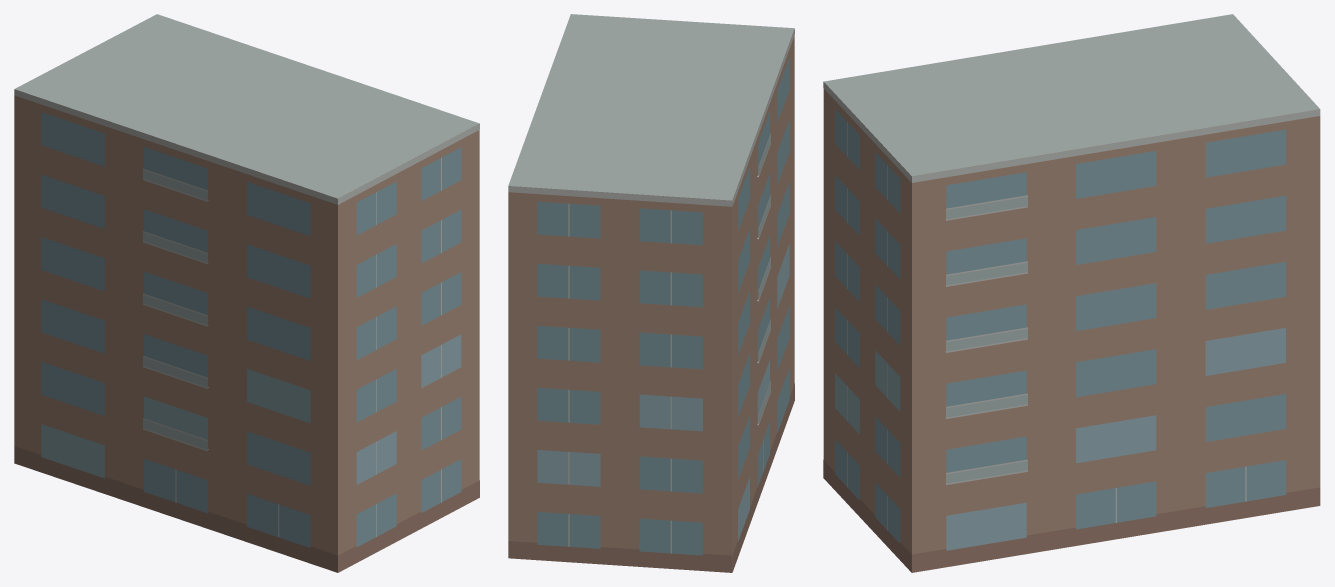
File: survey-upis-32889232.glb
The picture shows the model from 3 angles, left to right: view 1: azimuth 30°, elevation 25°; view 2: azimuth 150°, elevation 25°; view 3: azimuth 270°, elevation 25°; orthographic projection. The views are drawn at different scales.
Visible parts, largest first — view 1: survey-upis-32889232.tmp; view 2: survey-upis-32889232.tmp; view 3: survey-upis-32889232.tmp.
Part boxes in pixels (<box>): survey-upis-32889232.tmp: <box>14,14,479,572</box>; survey-upis-32889232.tmp: <box>508,14,794,572</box>; survey-upis-32889232.tmp: <box>823,14,1320,572</box>.
Bounding box in the file's own units: 12.78 × 14.55 × 16.53.
